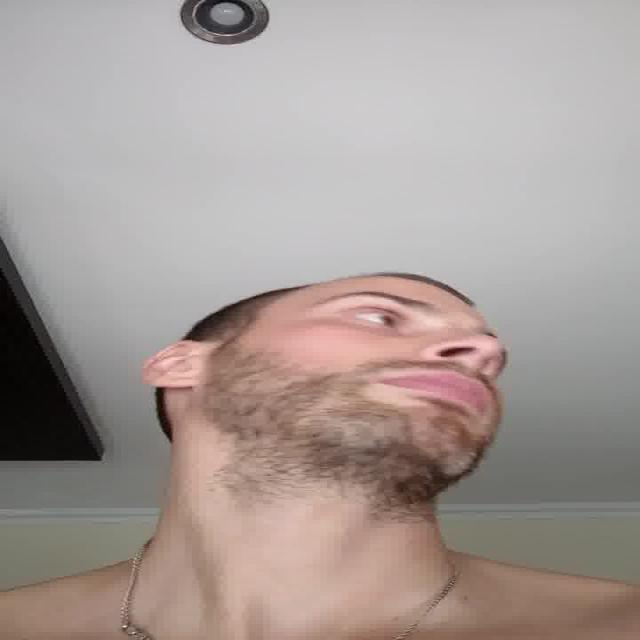earlobe: (145, 376, 199, 392)
eye: (345, 309, 406, 329)
nose: (428, 350, 501, 380)
wholeear: (145, 340, 199, 391)
